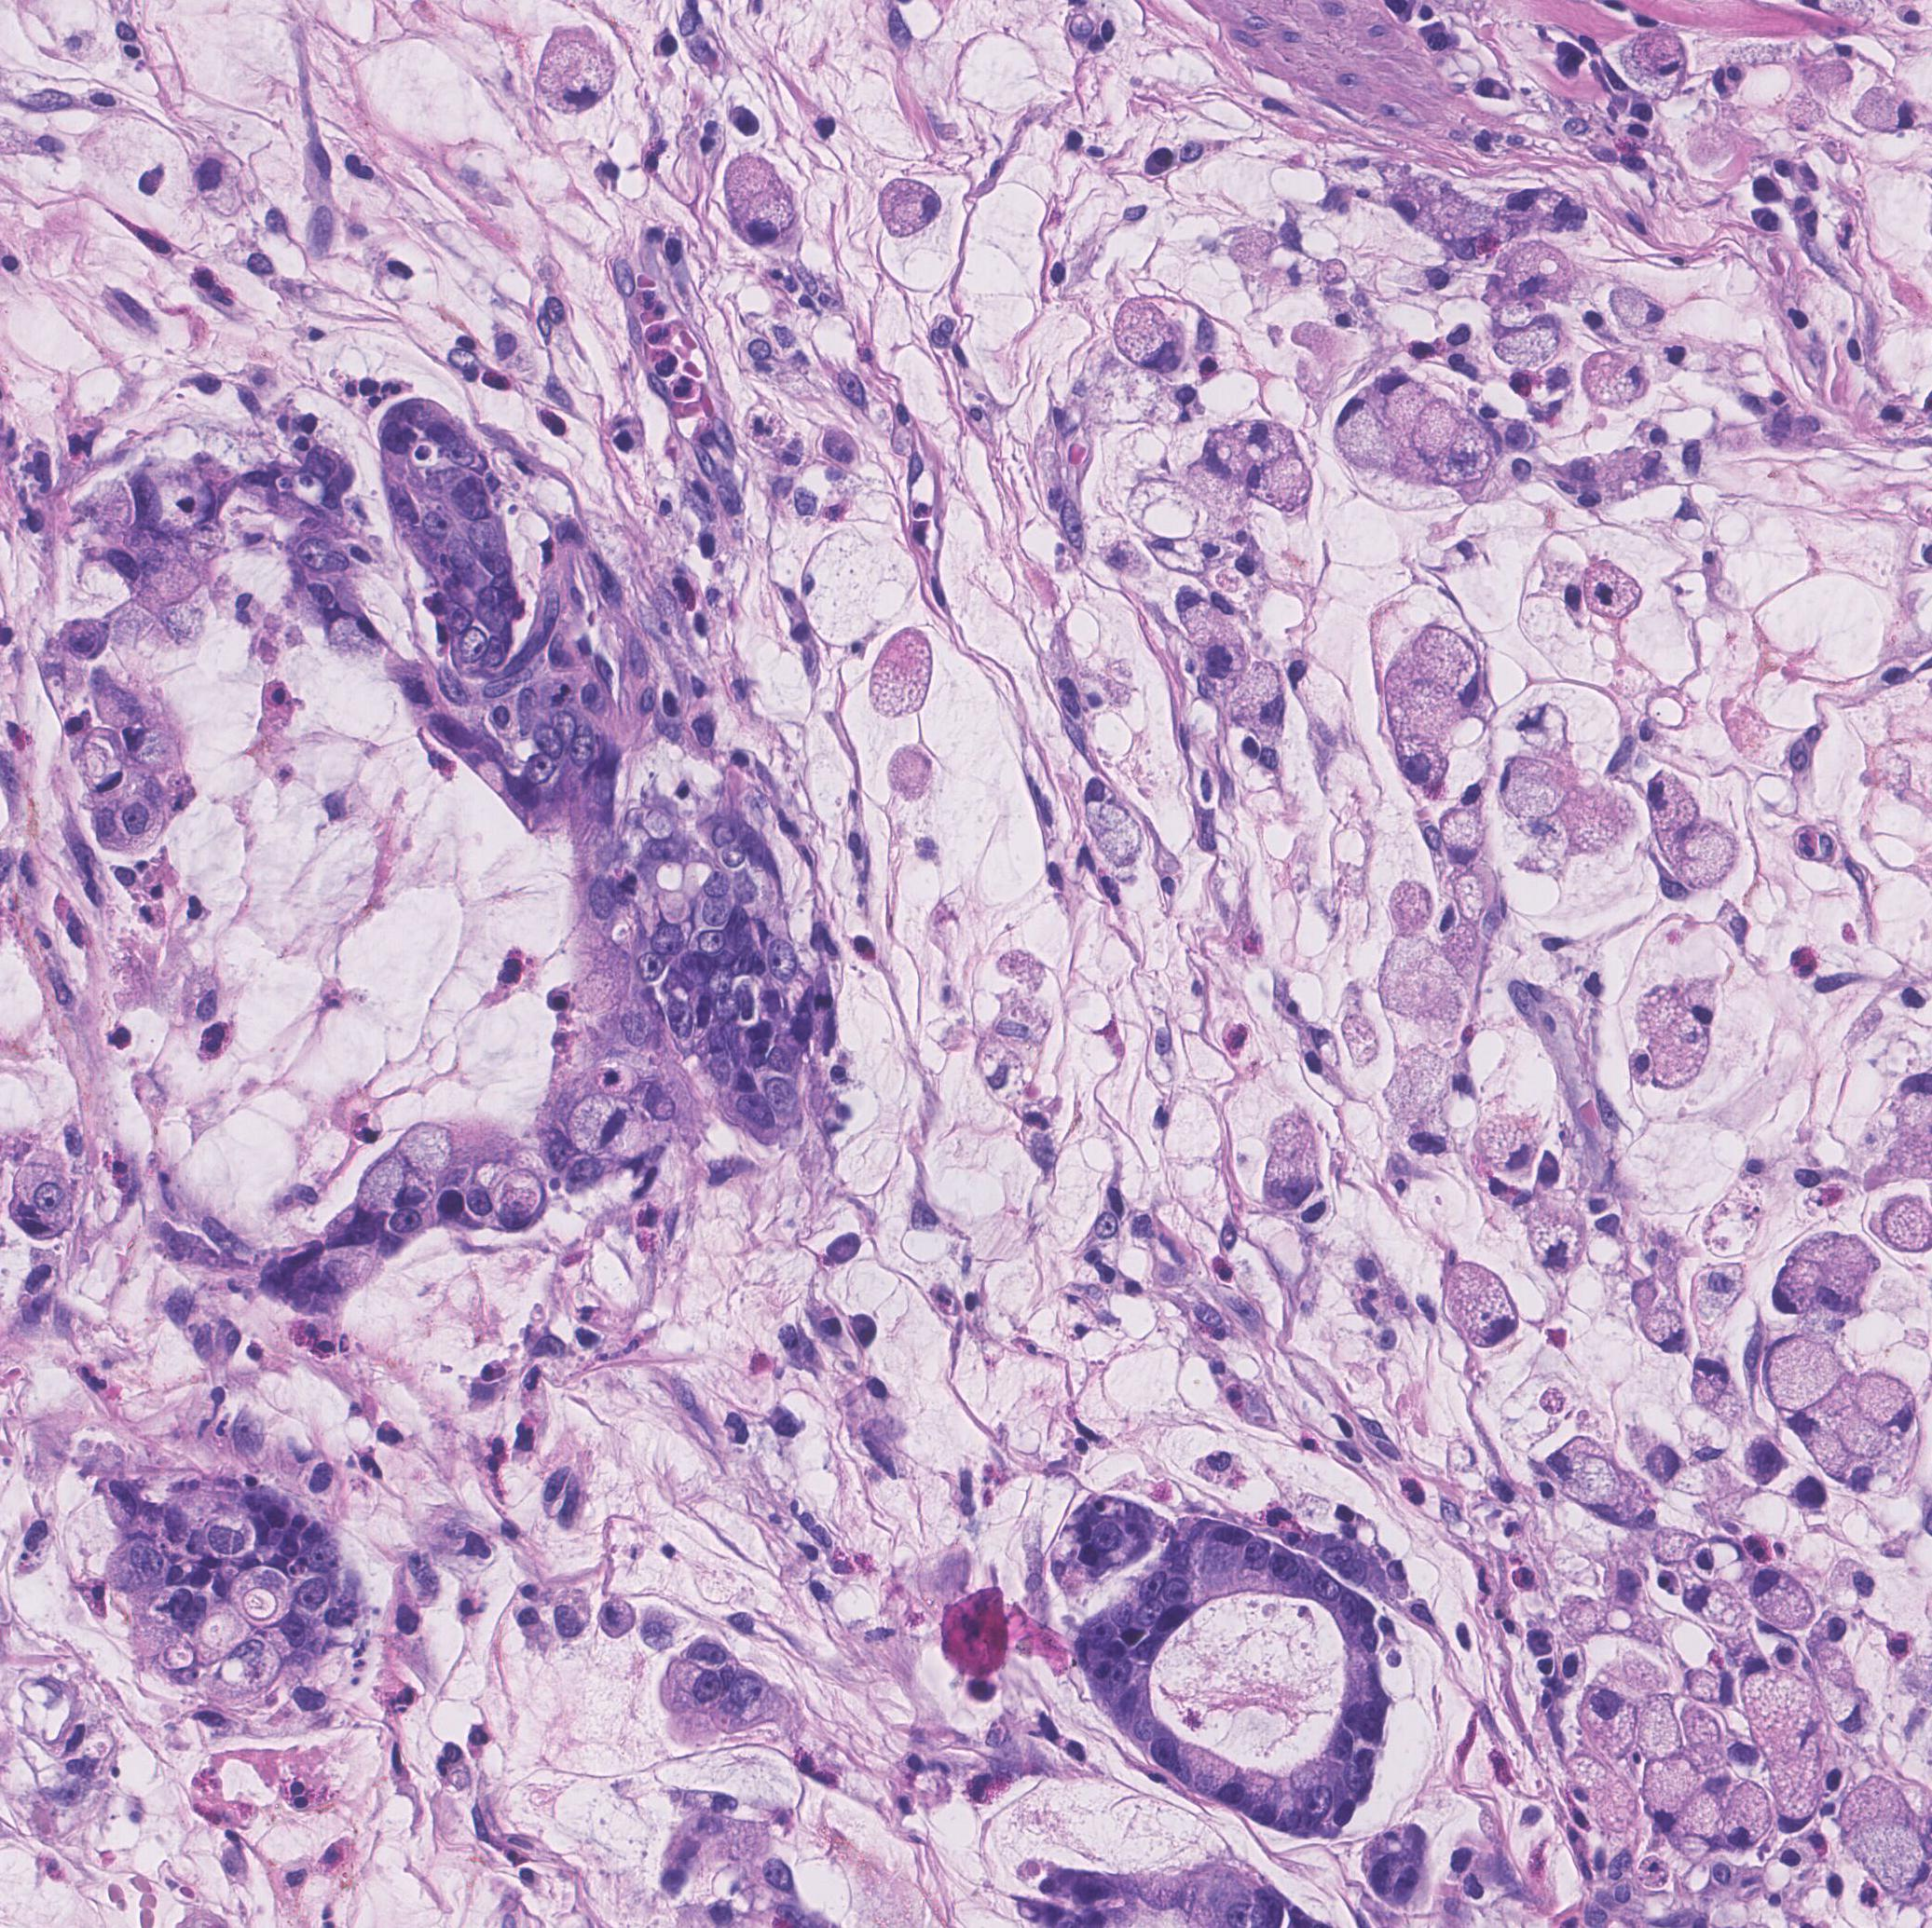ring_cell_cancer: (1740, 1667, 1833, 1833), (1383, 166, 1506, 265), (1386, 659, 1473, 793), (1552, 1428, 1660, 1536), (1762, 1225, 1881, 1321), (1619, 985, 1727, 1089), (1383, 925, 1476, 1035), (1748, 1326, 1847, 1425), (558, 1086, 666, 1176), (1415, 392, 1505, 496), (1402, 616, 1498, 713), (1243, 1111, 1324, 1222), (717, 152, 802, 256), (1439, 1255, 1526, 1352), (532, 25, 618, 120), (1166, 584, 1252, 676), (1556, 1753, 1641, 1843), (1489, 238, 1575, 323), (1107, 297, 1192, 380), (1330, 397, 1418, 475), (1736, 1557, 1817, 1638), (1556, 777, 1637, 858), (1190, 417, 1296, 478), (9, 1149, 78, 1241), (871, 632, 938, 726), (1083, 782, 1151, 872), (1496, 747, 1572, 826), (1616, 21, 1687, 104), (1810, 1644, 1874, 1736), (1669, 825, 1741, 904), (1637, 1753, 1706, 1834), (397, 1121, 463, 1202), (1582, 348, 1658, 417), (1231, 659, 1291, 743), (871, 178, 948, 242), (491, 1153, 551, 1234), (1851, 1370, 1925, 1435), (348, 1153, 411, 1229), (1635, 1277, 1692, 1361), (1575, 556, 1648, 621), (1522, 1199, 1586, 1273), (1577, 1683, 1637, 1759), (1641, 773, 1701, 847), (69, 724, 129, 798), (1854, 85, 1925, 147), (1628, 1691, 1687, 1764), (1250, 457, 1314, 521), (1476, 1112, 1538, 1178), (1605, 277, 1672, 337), (1687, 1342, 1736, 1420), (1722, 1780, 1773, 1852), (1694, 1261, 1743, 1329), (1439, 803, 1489, 867), (549, 1582, 597, 1647), (1388, 877, 1438, 938)
